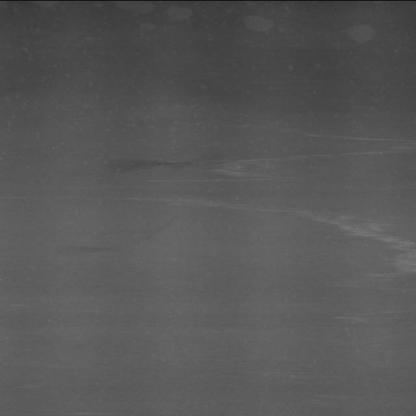silk_spot: (152, 183, 289, 214), (211, 152, 303, 180), (321, 202, 383, 239), (379, 235, 412, 284)
